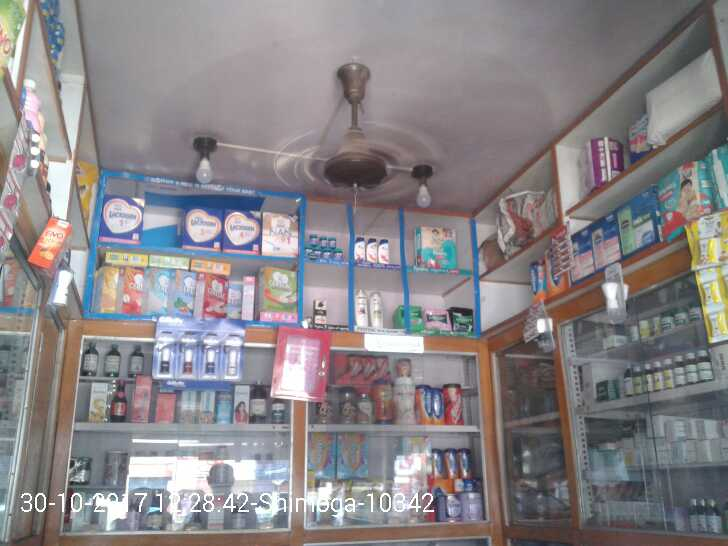beauty: (196, 328, 221, 379), (175, 328, 199, 375), (221, 324, 240, 381), (158, 328, 176, 380), (369, 290, 388, 330), (355, 286, 369, 325), (364, 233, 380, 263), (314, 300, 329, 323), (379, 241, 392, 265), (355, 238, 366, 259)
pharmacy: (418, 225, 455, 272), (423, 307, 451, 331), (451, 308, 479, 331), (333, 244, 343, 266), (325, 236, 338, 250), (321, 232, 327, 251), (308, 233, 317, 245)
